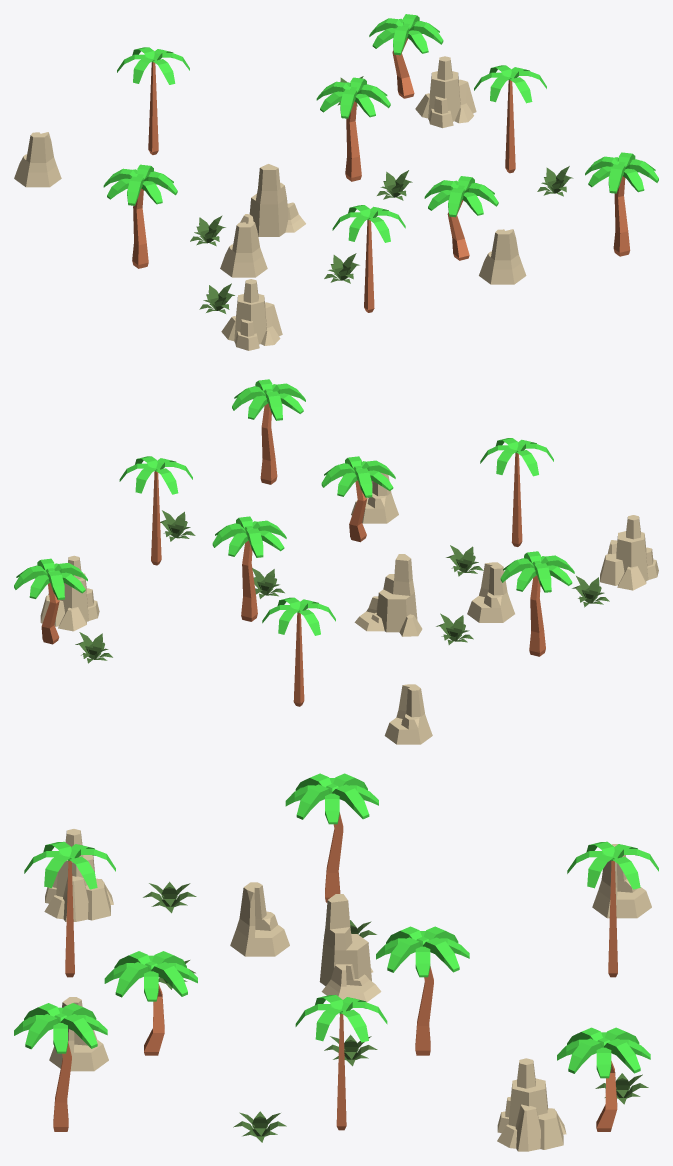
Rendered from desert_petit_bois_et_amas_rocheux.glb.
3 renders of one model, top to bottom at view 1: azimuth 30°, elevation 25°; view 2: azimuth 150°, elevation 25°; view 3: azimuth 270°, elevation 25°, orthographic. The views are drawn at different scales.
Parts seen in each view (by area): view 1: mergedBlocks(Clone); view 2: mergedBlocks(Clone); view 3: mergedBlocks(Clone).
Part boxes in pixels (x1,y1,x2,y2): mergedBlocks(Clone): [14, 14, 658, 350]; mergedBlocks(Clone): [14, 379, 658, 744]; mergedBlocks(Clone): [14, 773, 658, 1151].
Size of the model in its own units: 7.1 by 1.51 by 7.13.
Materials: 1 (1 with a texture image).
